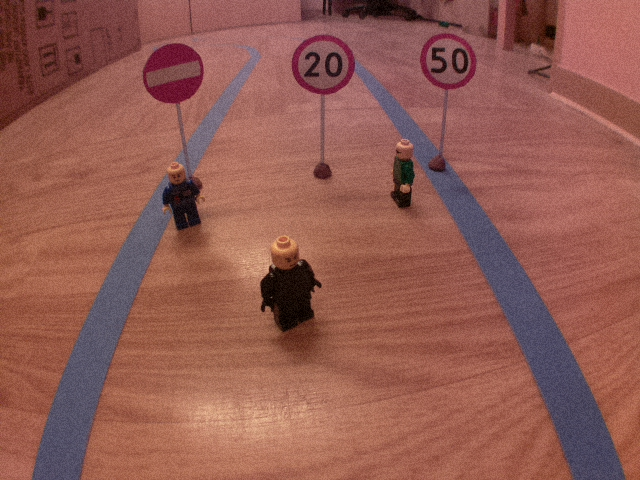LEGO_person: (258, 233, 323, 335), (161, 160, 208, 231), (386, 137, 417, 210)
ogr_20: (289, 32, 358, 98)
ogr_50: (417, 30, 479, 89)
zakaz: (141, 40, 206, 106)
